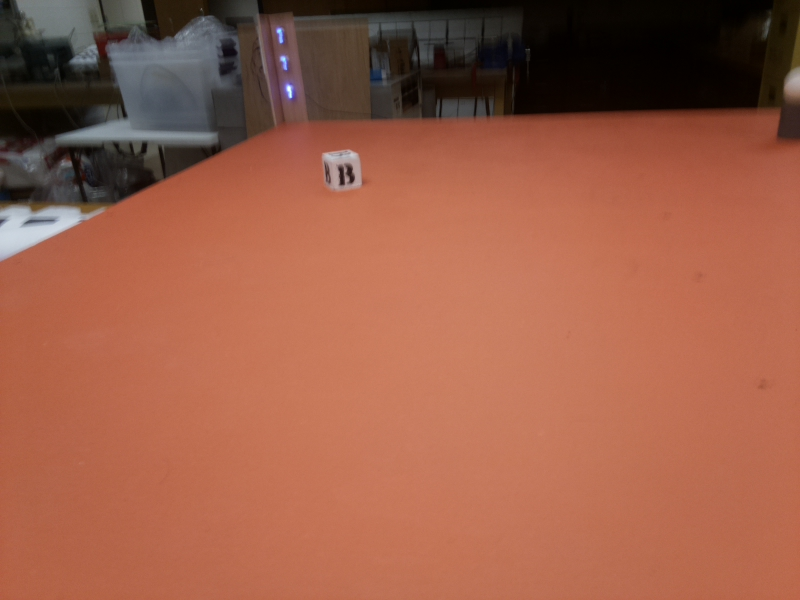blockB: (320, 147, 367, 191)
corner: (252, 11, 314, 125)
obstacle: (777, 67, 800, 143)
